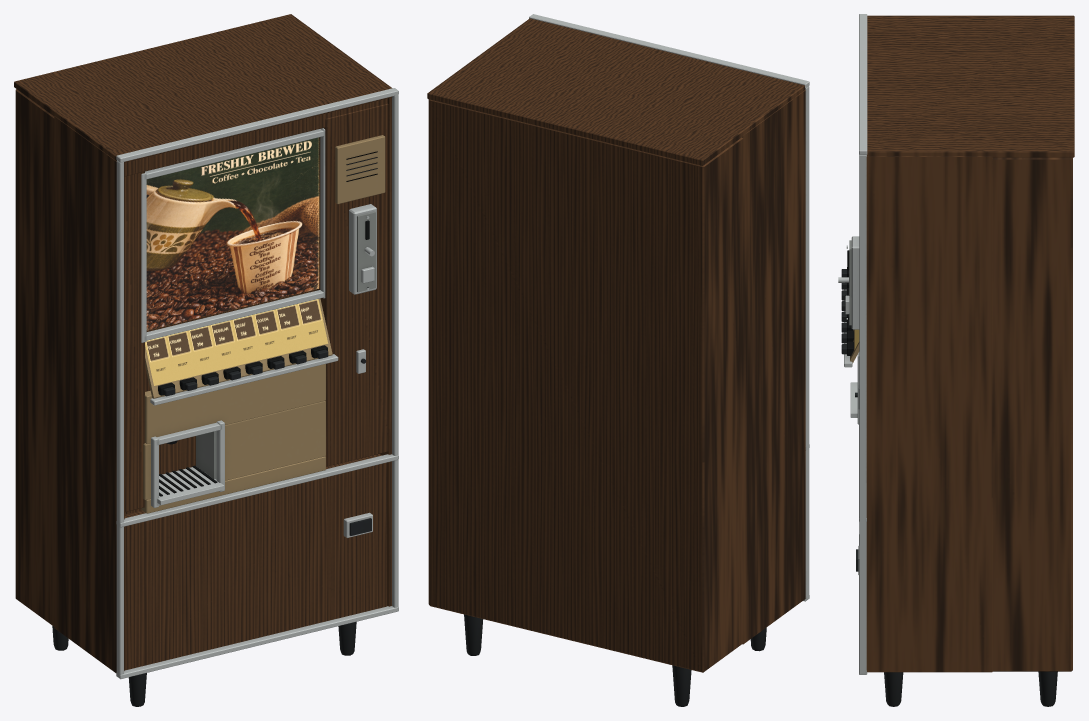
The model's file is office_coffee_machine.glb.
3 views of the same model, side by side, from view 1: azimuth 30°, elevation 25°; view 2: azimuth 150°, elevation 25°; view 3: azimuth 270°, elevation 25° (orthographic).
Parts seen in each view (by area): view 1: office_coffee_machine_Body, Advertising; view 2: office_coffee_machine_Body; view 3: office_coffee_machine_Body.
Part boxes in pixels (box(x1,y1,x2,y2)): office_coffee_machine_Body: box(14, 14, 398, 706); Advertising: box(145, 137, 328, 385); office_coffee_machine_Body: box(427, 14, 809, 706); office_coffee_machine_Body: box(838, 14, 1074, 706).
Size of the model in its own units: 0.945 by 1.83 by 0.688.
2 materials, 2 textured.
